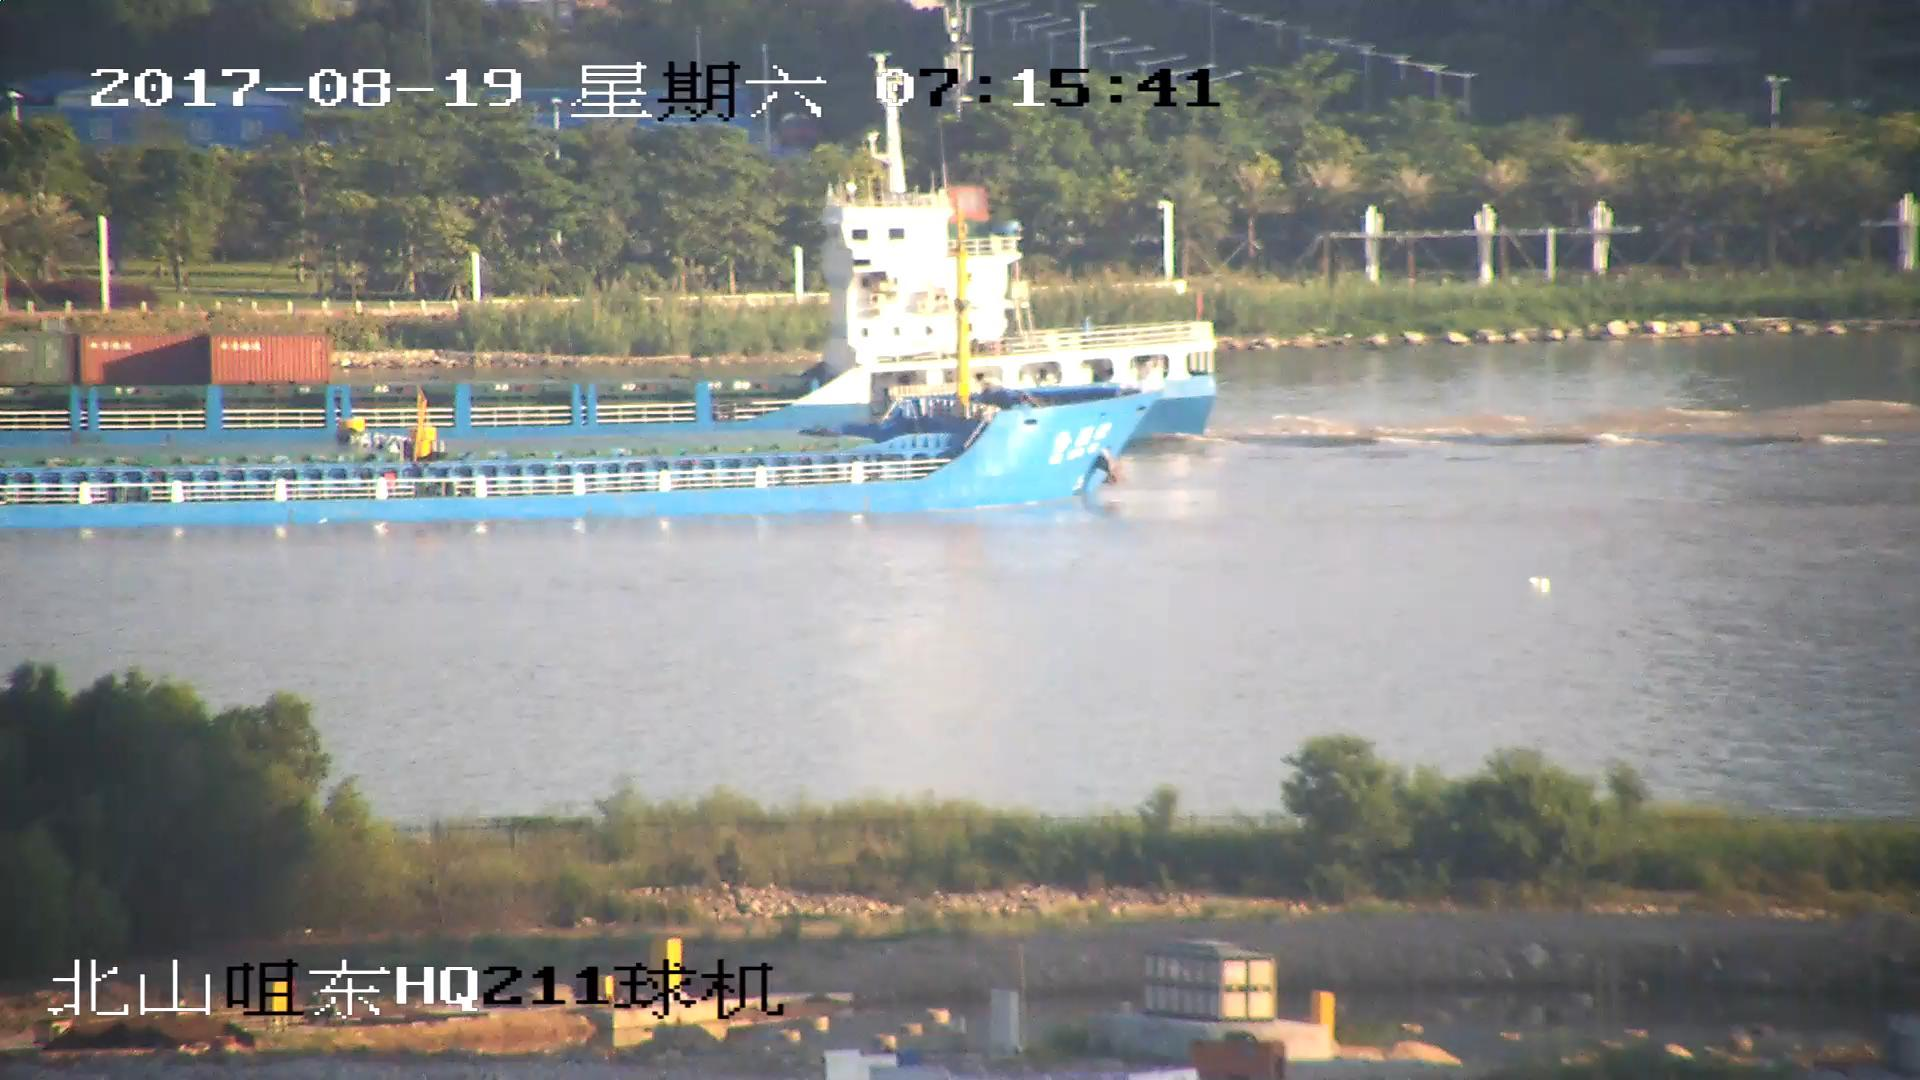Ship: (3, 112, 1228, 440), (3, 203, 1141, 530)
